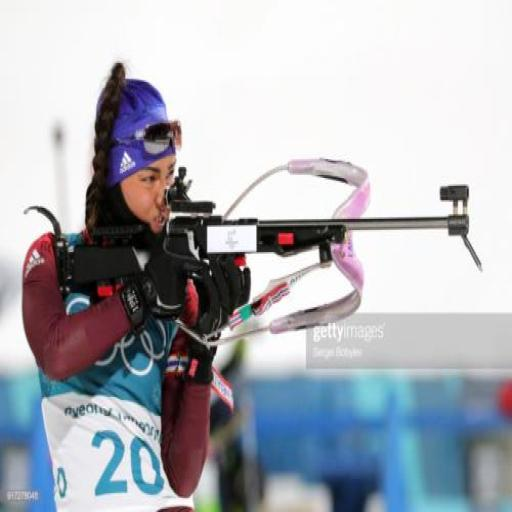shooting: (26, 88, 446, 500)
